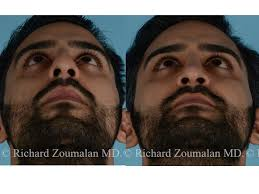middle_eastern_male: (9, 26, 123, 142)
